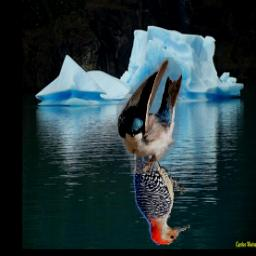Swallow: (117, 57, 183, 174)
Woodpecker: (133, 126, 190, 245)
